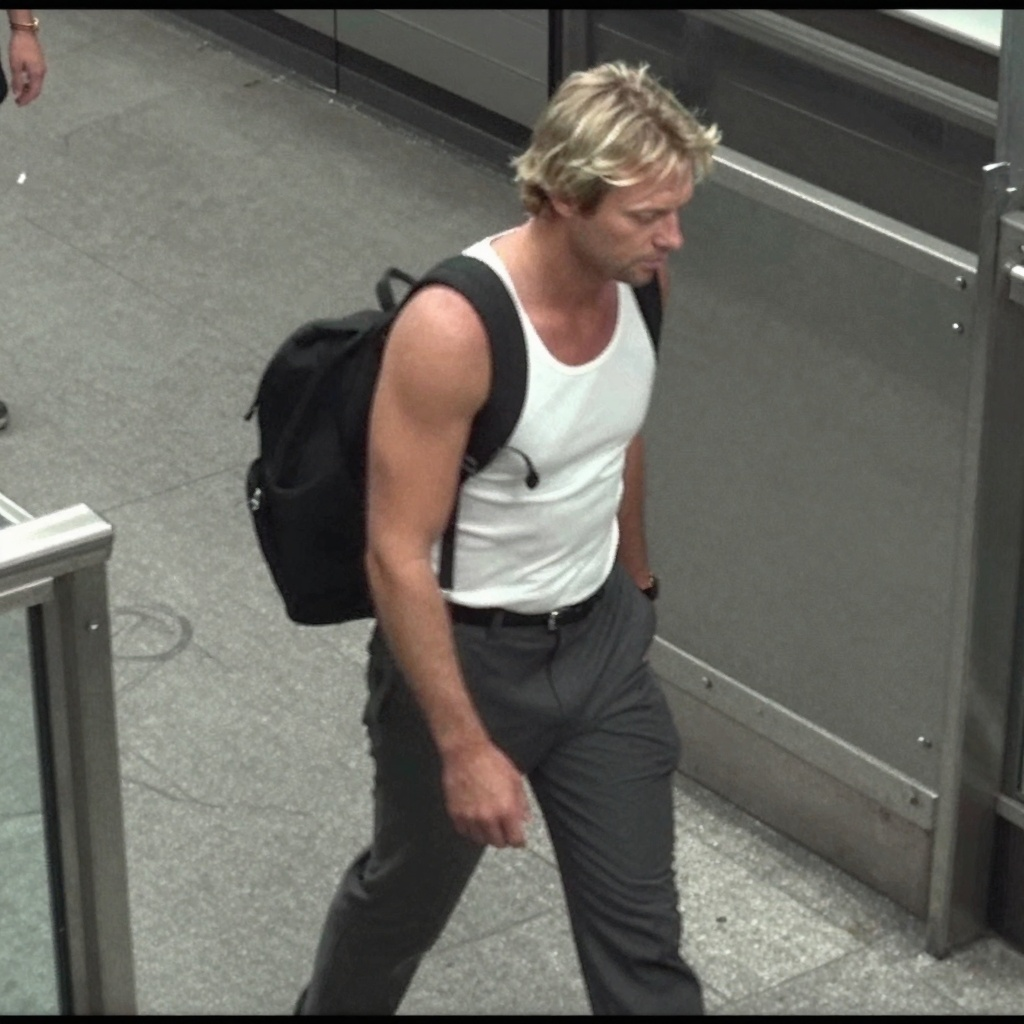Normal activity: (348, 59, 718, 995), (0, 15, 47, 430), (0, 12, 48, 109)
